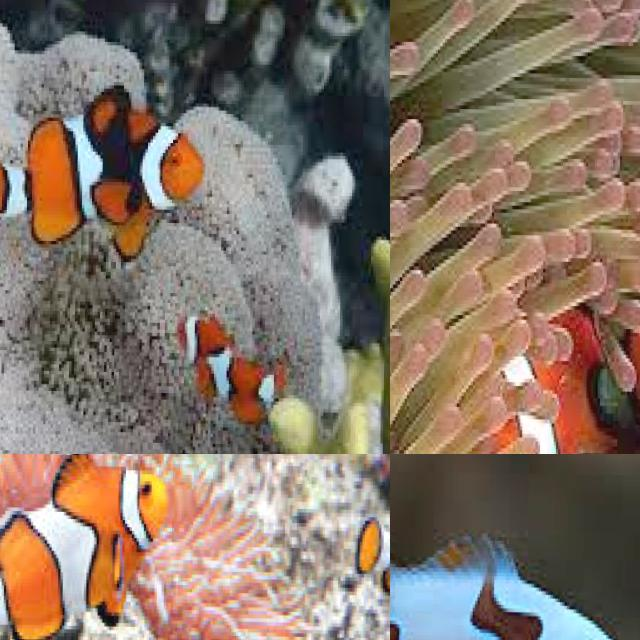Amphiprion-percula: (0, 48, 223, 279), (432, 248, 640, 454), (390, 483, 640, 640), (0, 454, 189, 640), (158, 306, 316, 439), (40, 454, 277, 530), (314, 467, 390, 640), (273, 454, 390, 560), (231, 454, 390, 521)
